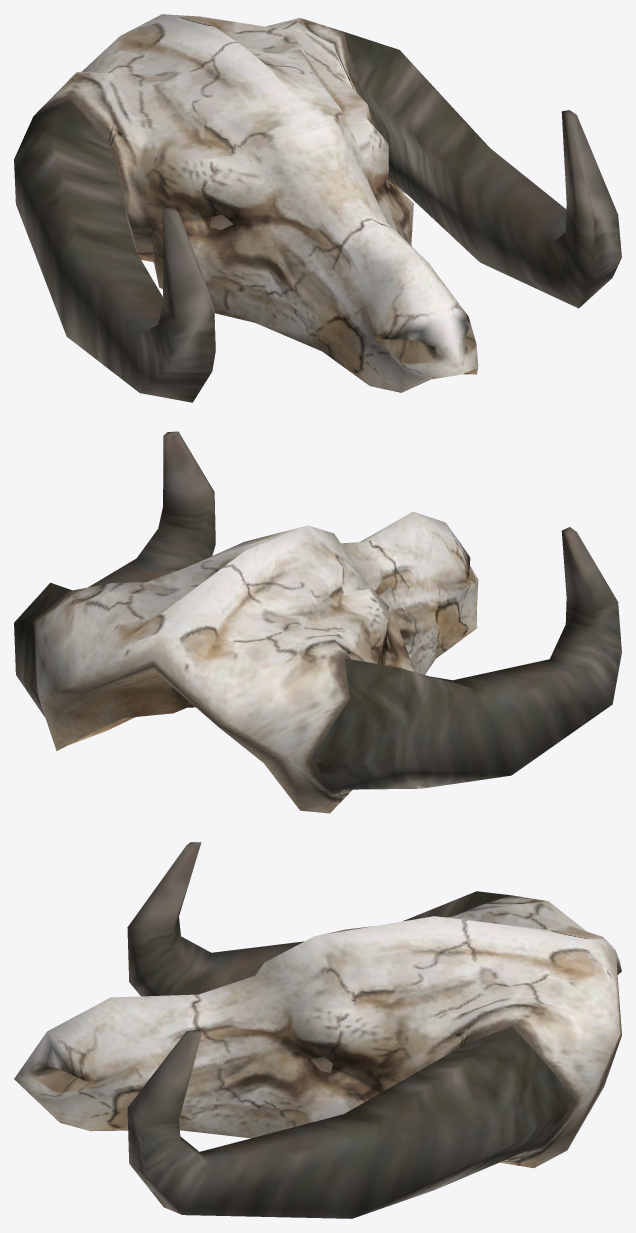
Rendered from thm_dant_bol_skull_l0.fbx.
3 views of the same model, one above another, from view 1: azimuth 30°, elevation 25°; view 2: azimuth 150°, elevation 25°; view 3: azimuth 270°, elevation 25° (orthographic). The views are drawn at different scales.
Parts seen in each view (by area): view 1: mesh_node; view 2: mesh_node; view 3: mesh_node.
Boxes of the visible parts, x1,y1,x2,y2 form: mesh_node: (14, 14, 621, 402); mesh_node: (14, 431, 621, 813); mesh_node: (14, 842, 621, 1218).
Size of the model in its own units: 1.42 by 0.6098 by 1.63.
